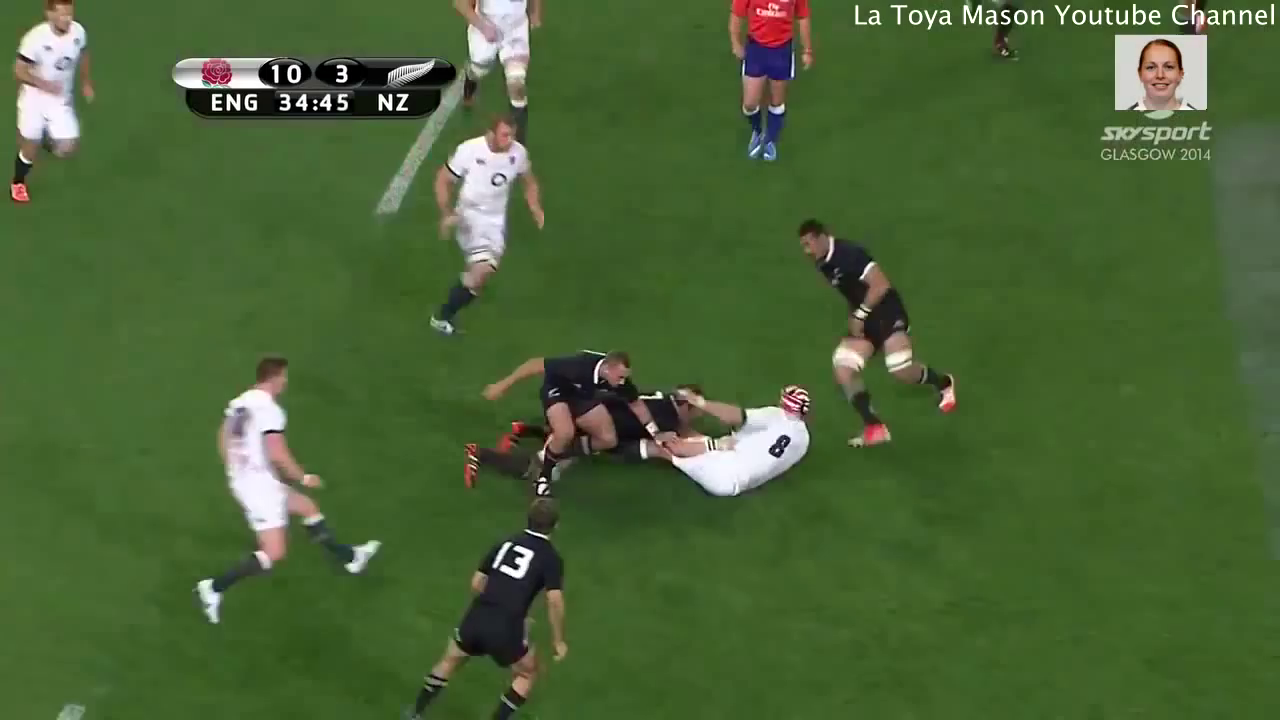player: (171, 339, 394, 634), (787, 215, 972, 462), (393, 489, 580, 720), (418, 109, 554, 349), (474, 337, 652, 506), (599, 369, 825, 502), (704, 1, 829, 177), (1, 1, 101, 216), (443, 1, 559, 158)
ruck: (431, 324, 872, 524)
